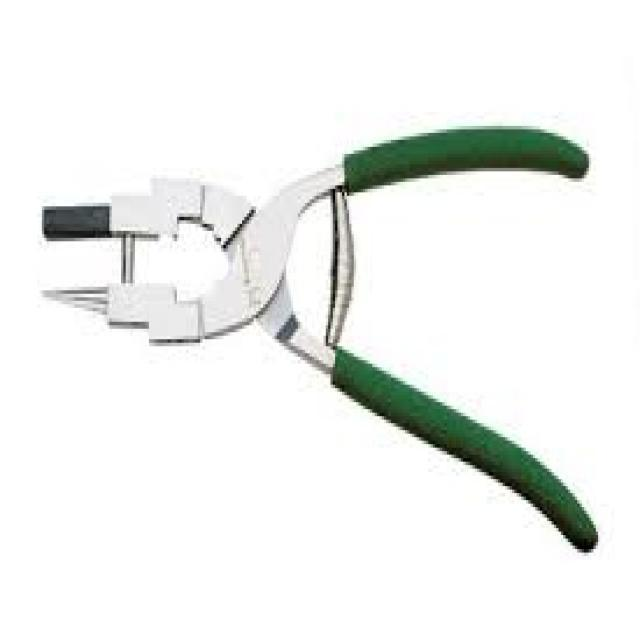pliers: (19, 114, 614, 566)
